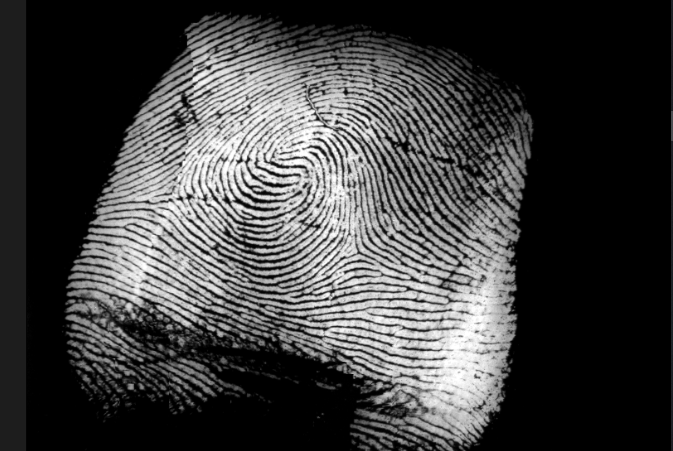deltas: (330, 216, 384, 277), (146, 165, 192, 218)
nucleo: (256, 129, 320, 191)
